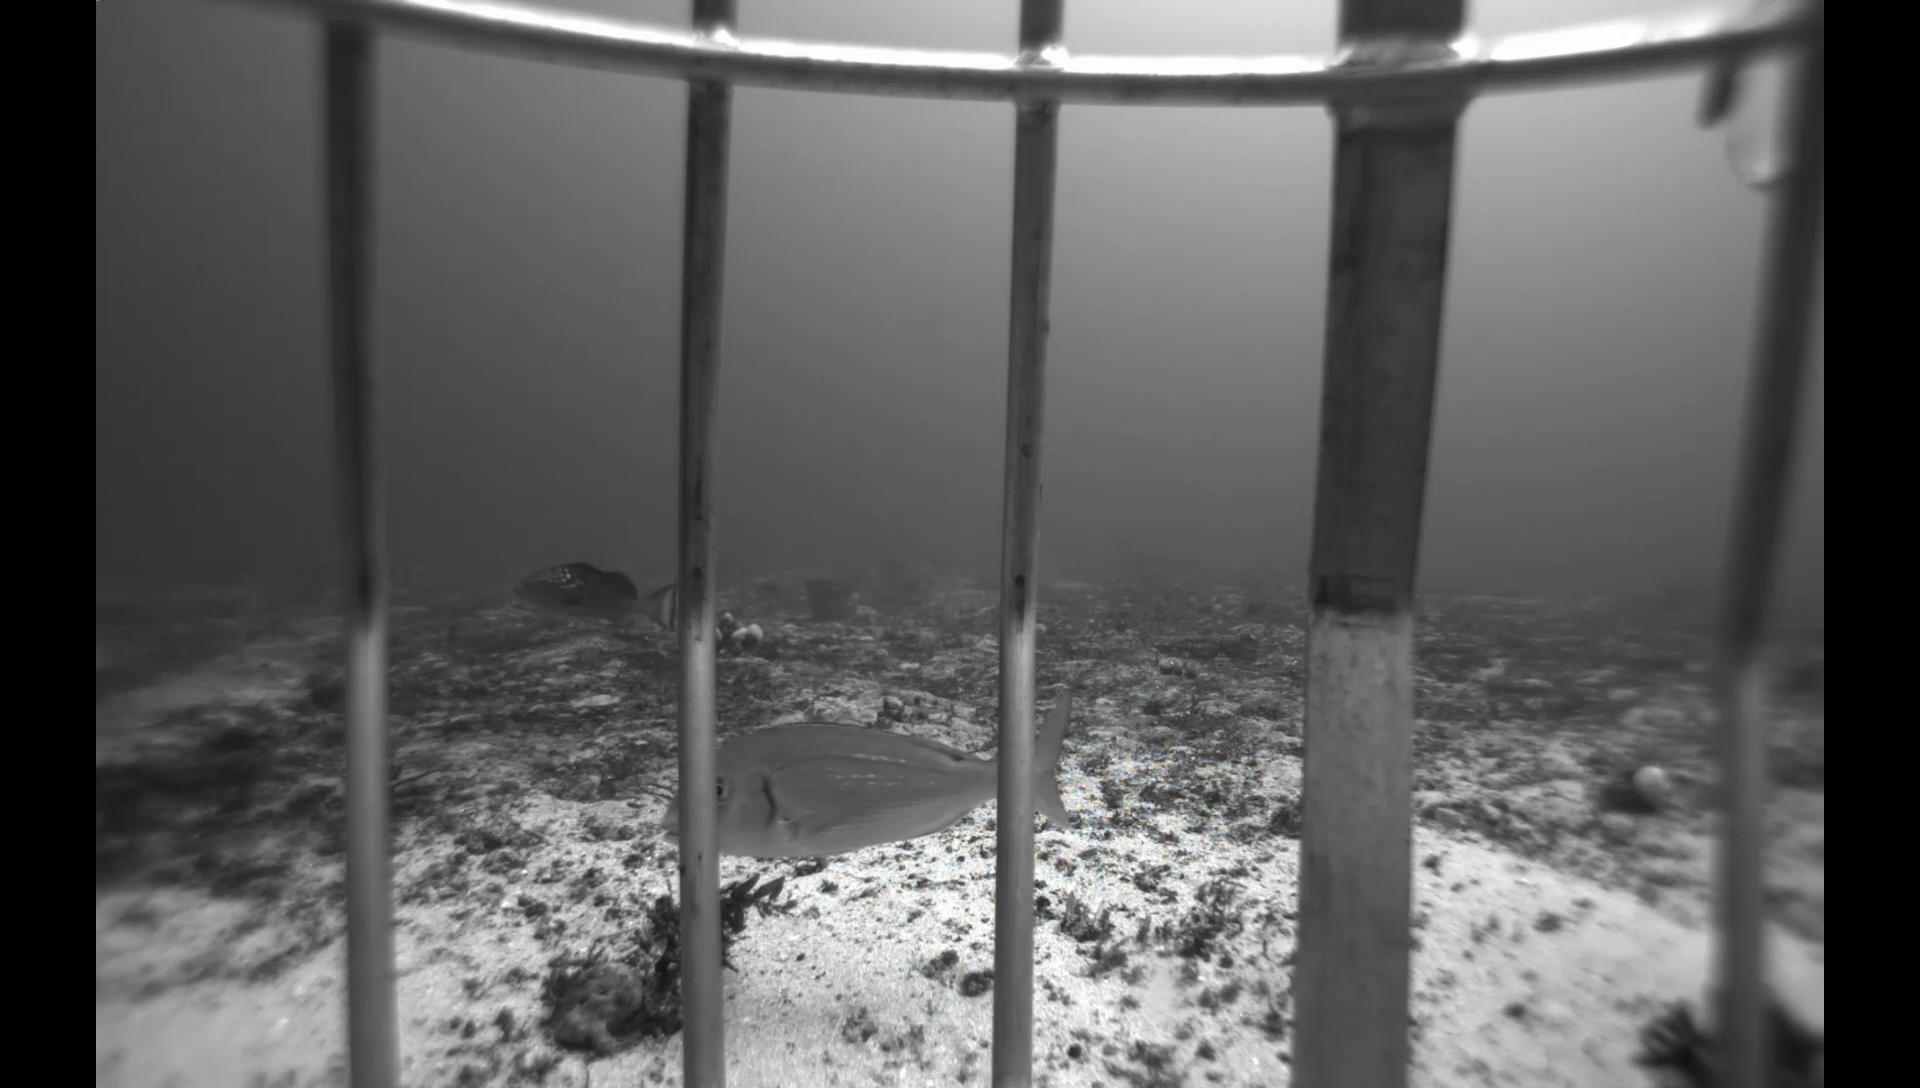CHAETODONOCELLATUS-170260307: (914, 557, 938, 578), (818, 567, 840, 584)
EPINEPHELUSMORIO-170021211: (506, 558, 680, 636)
PAGRUSPAGRUS-170212302: (644, 666, 1088, 861)
PRISTIGENYSALTA-170050401: (309, 669, 404, 721)
